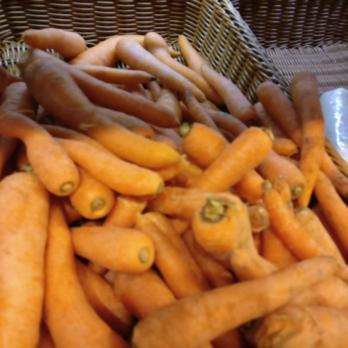Carrot: (0, 162, 348, 348), (0, 26, 225, 161), (247, 67, 325, 206)
